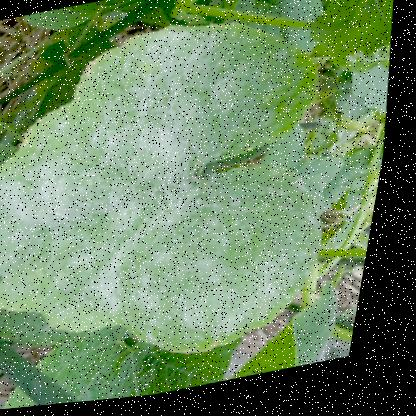PowderyMildew: (73, 179, 300, 329), (85, 35, 267, 190), (0, 128, 185, 274)
